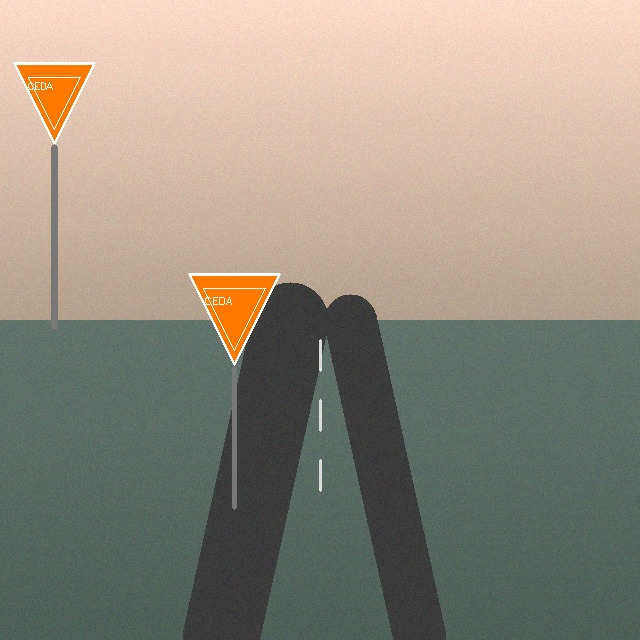ceda_el_paso: (185, 270, 283, 368), (10, 59, 98, 147)
